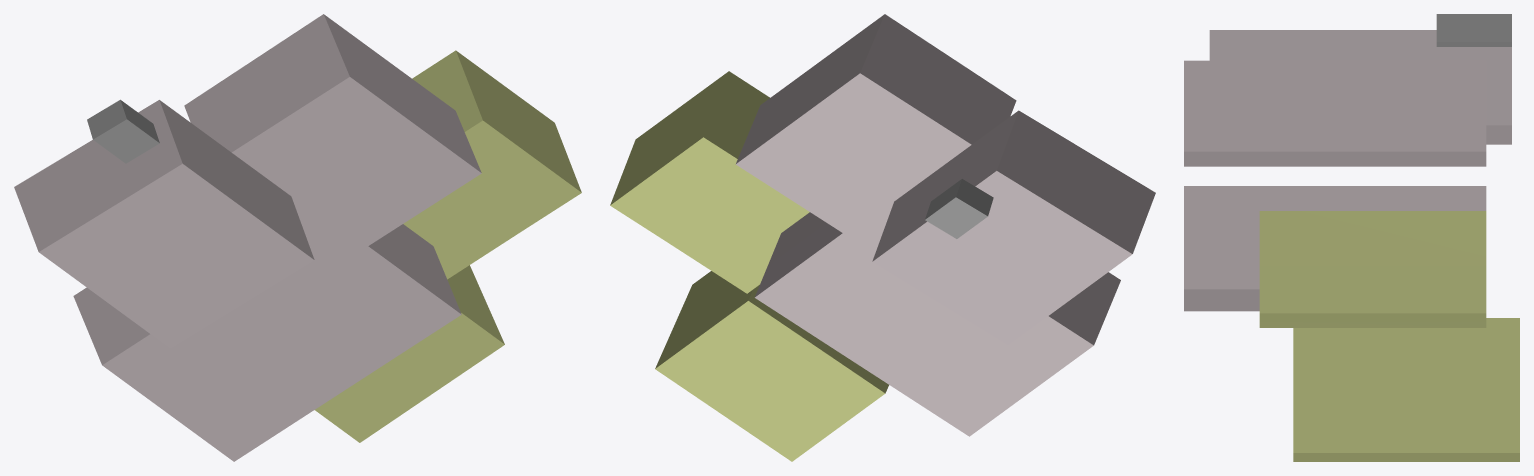
3 renders of one model, left to right at view 1: azimuth 30°, elevation 25°; view 2: azimuth 150°, elevation 25°; view 3: azimuth 270°, elevation 25°, orthographic. The views are drawn at different scales.
Parts seen in each view (by area): view 1: 0_1_3_2_2_2_2_3_0_0; view 2: 0_1_3_2_2_2_2_3_0_0; view 3: 0_1_3_2_2_2_2_3_0_0.
Part boxes in pixels (box(x1,y1,x2,y2)): 0_1_3_2_2_2_2_3_0_0: box(14, 14, 581, 461); 0_1_3_2_2_2_2_3_0_0: box(610, 14, 1155, 461); 0_1_3_2_2_2_2_3_0_0: box(1184, 14, 1519, 461).
Bounding box in the file's own units: 24.02 × 17.84 × 13.33.
